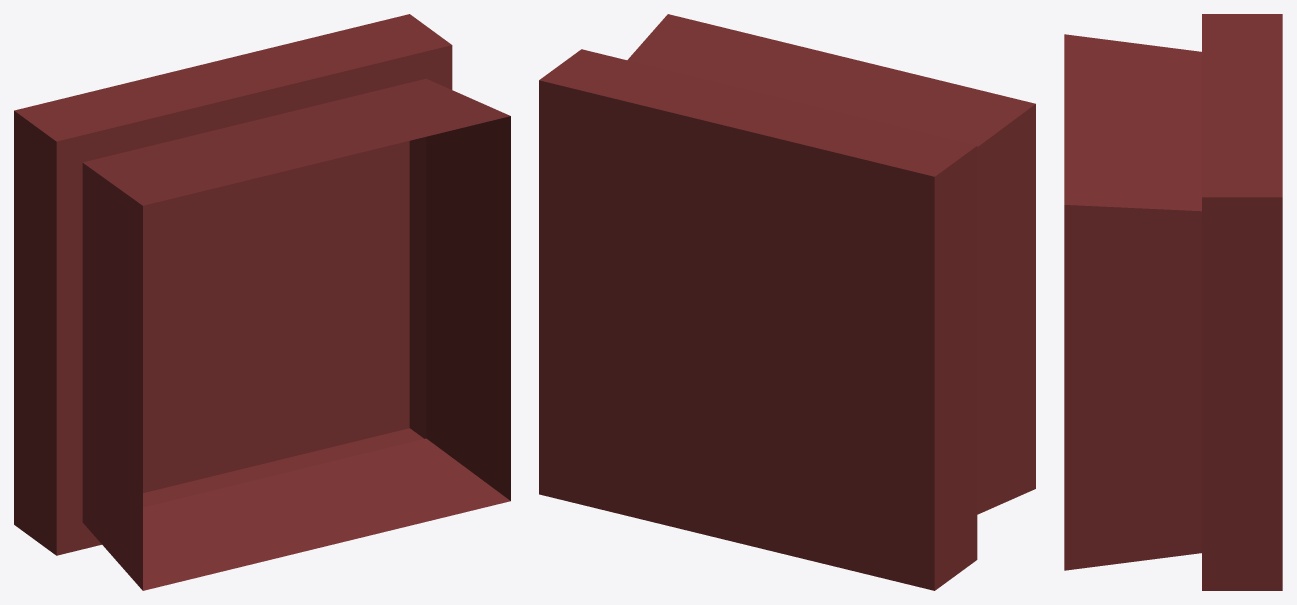
File: land_base.fbx
3 renders of one model, left to right at view 1: azimuth 30°, elevation 25°; view 2: azimuth 150°, elevation 25°; view 3: azimuth 270°, elevation 25°, orthographic. The views are drawn at different scales.
Parts seen in each view (by area): view 1: Box501; view 2: Box501; view 3: Box501.
Part boxes in pixels (x1,y1,x2,y2): Box501: (14,14,510,590); Box501: (539,14,1035,590); Box501: (1064,14,1282,590).
Bounding box in the file's own units: 55.12 × 27.74 × 55.12.
